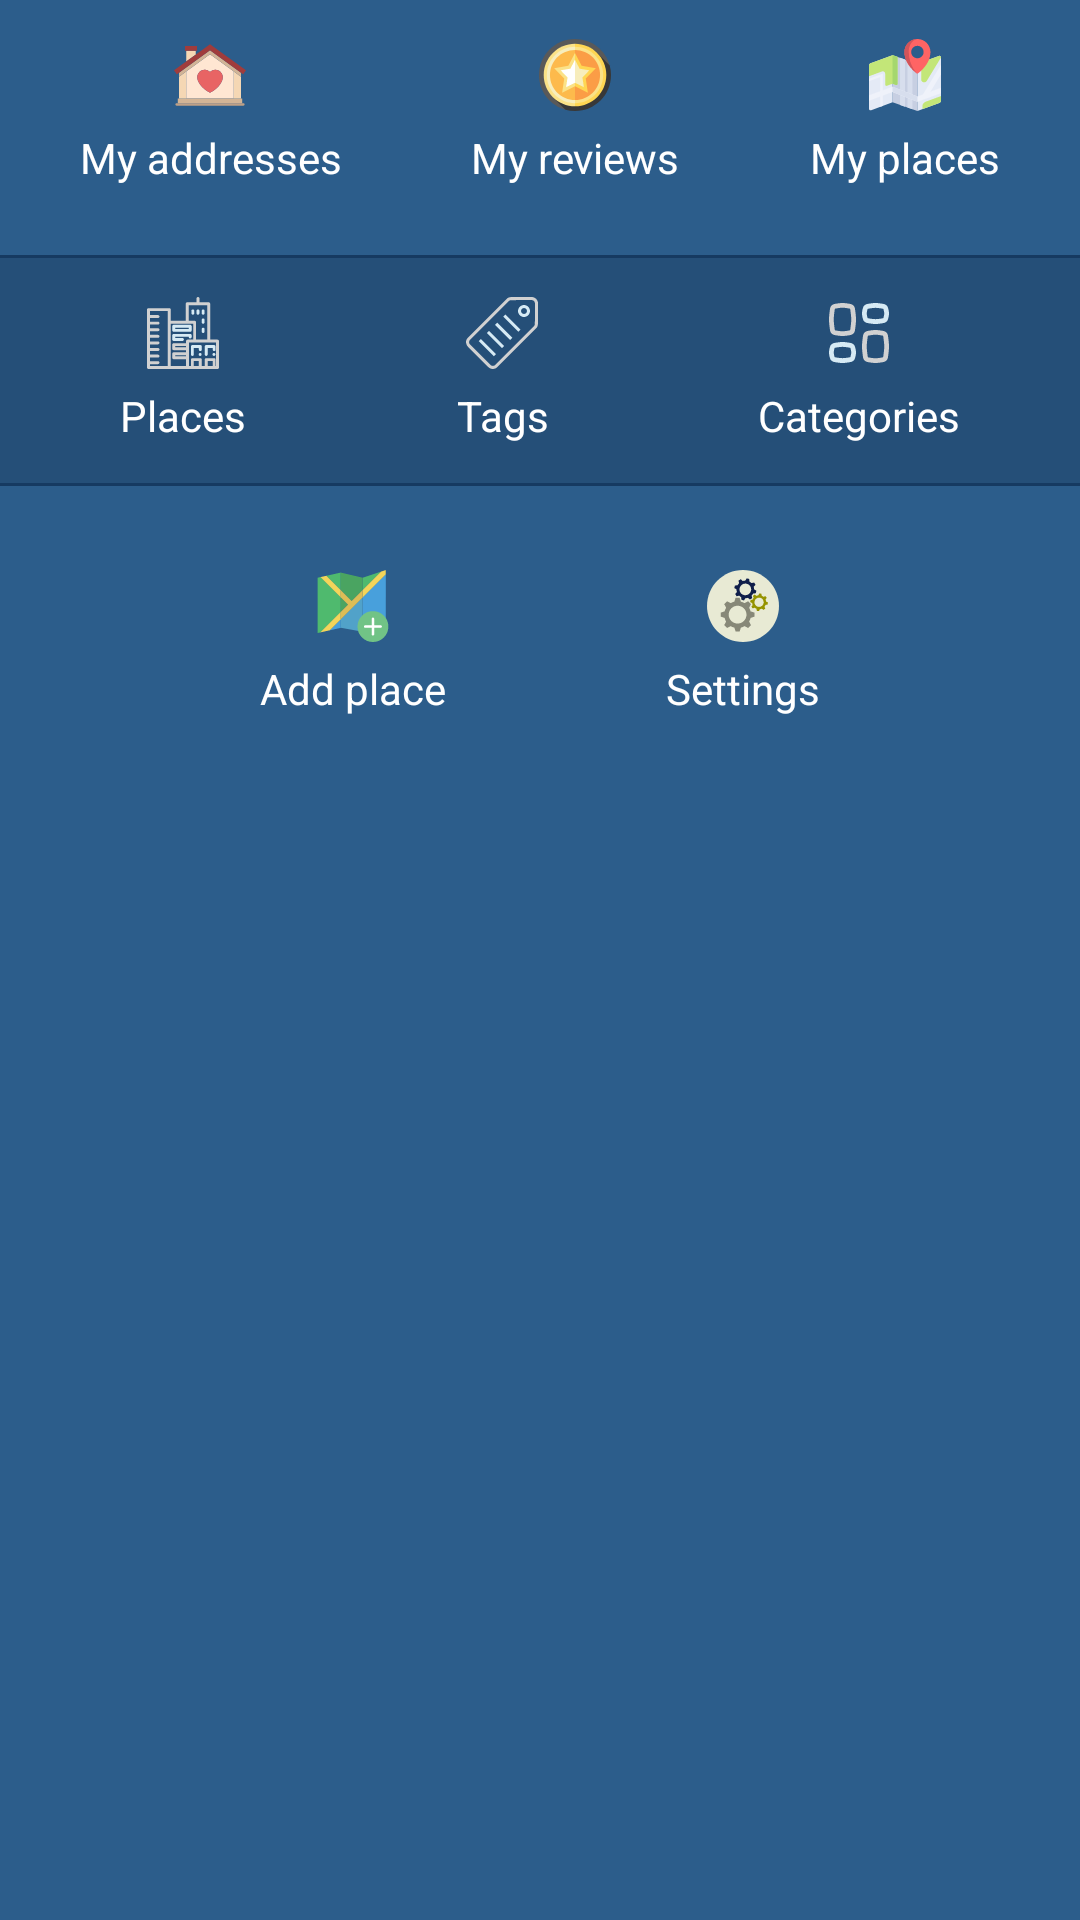

Icon bounding boxes for this 1080px×1920px phone screenshot, format (x1=x1, y1=y1, x2=x2, y2=y2):
buildings town: (x1=147, y1=297, x2=219, y2=369)
house: (x1=174, y1=44, x2=246, y2=106)
map add: (x1=317, y1=570, x2=389, y2=642)
map locations: (x1=869, y1=39, x2=941, y2=111)
star: (x1=539, y1=39, x2=611, y2=111)
